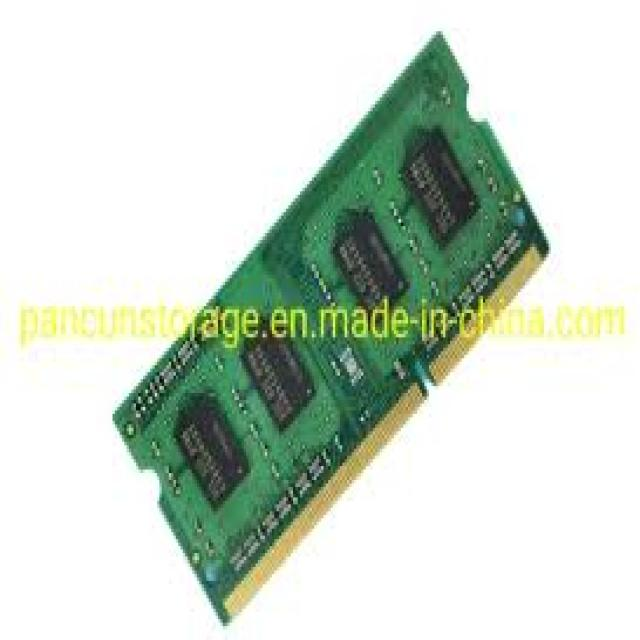Ram: (107, 64, 570, 573)
